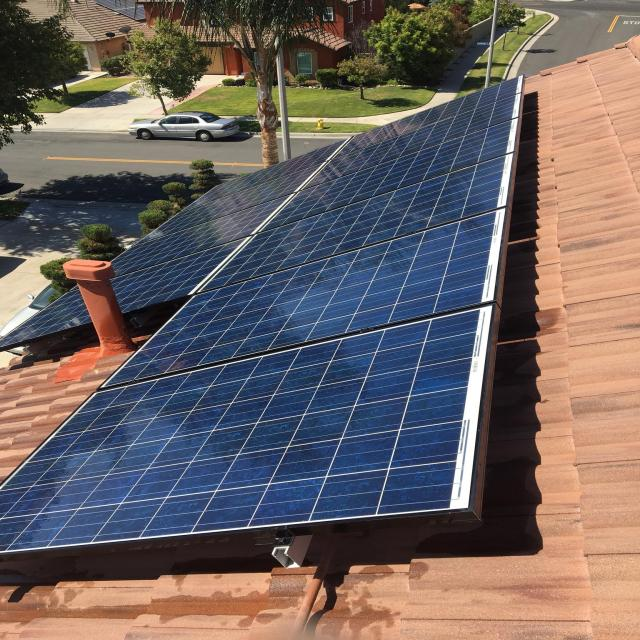clean-solar-panel: (2, 80, 522, 555)
